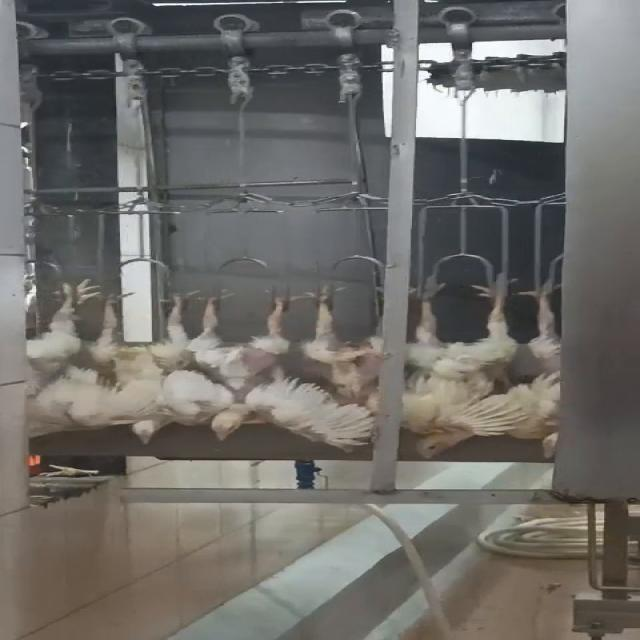chicken: (187, 288, 312, 441), (87, 286, 200, 446), (396, 281, 496, 458), (11, 273, 104, 451), (508, 272, 574, 462), (300, 276, 384, 412)
